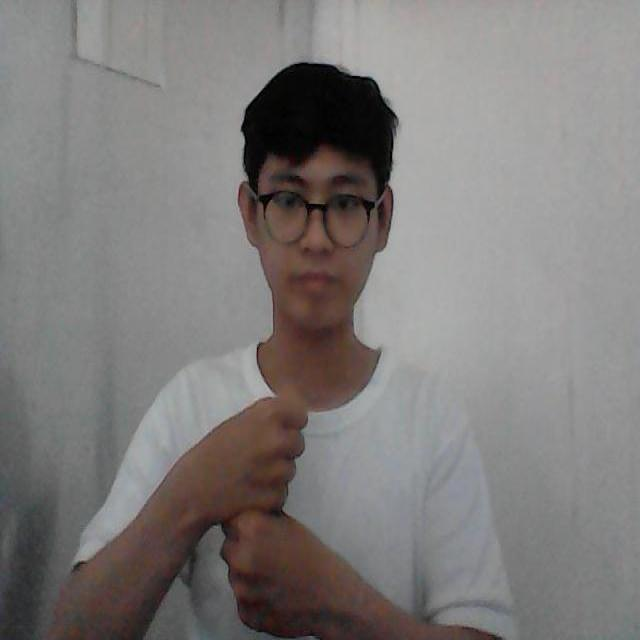G: (200, 379, 328, 640)
